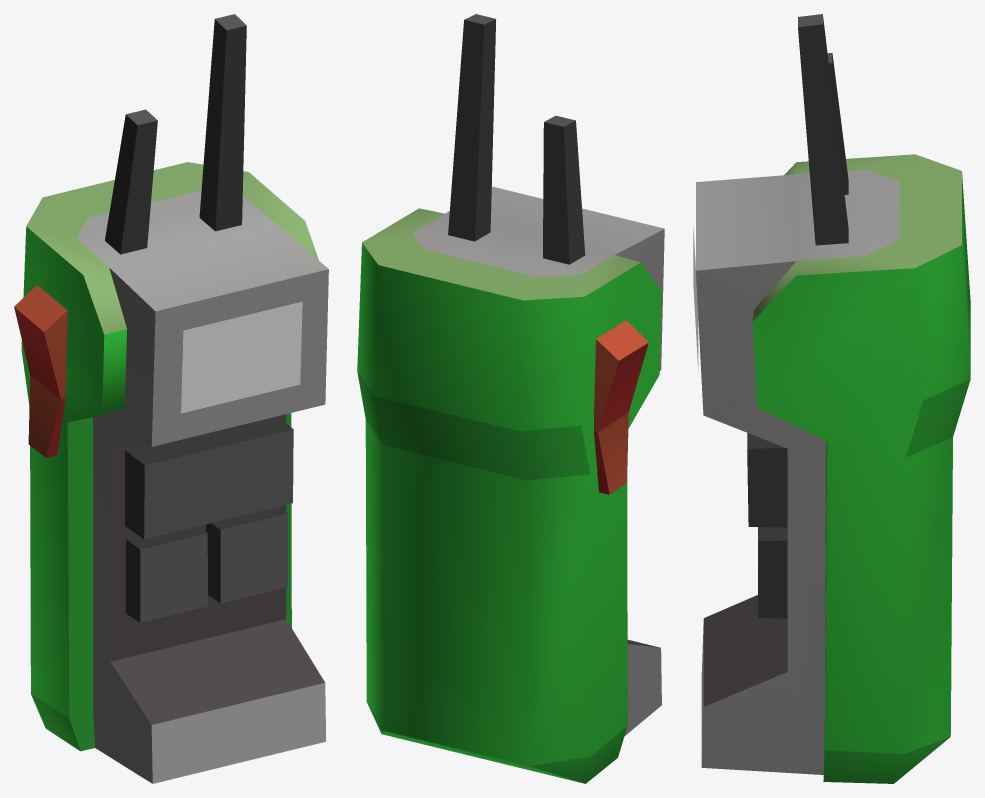
File: radio.fbx
The picture shows the model from 3 angles, left to right: view 1: azimuth 30°, elevation 25°; view 2: azimuth 150°, elevation 25°; view 3: azimuth 270°, elevation 25°; orthographic projection. The views are drawn at different scales.
Parts seen in each view (by area): view 1: Station Bounced Radio; view 2: Station Bounced Radio; view 3: Station Bounced Radio.
Boxes of the visible parts, x1=… form: Station Bounced Radio: x1=14, y1=14, x2=328, y2=783; Station Bounced Radio: x1=357, y1=14, x2=664, y2=783; Station Bounced Radio: x1=693, y1=14, x2=970, y2=783.
Bounding box in the file's own units: 0.1792 × 0.4867 × 0.1666.
